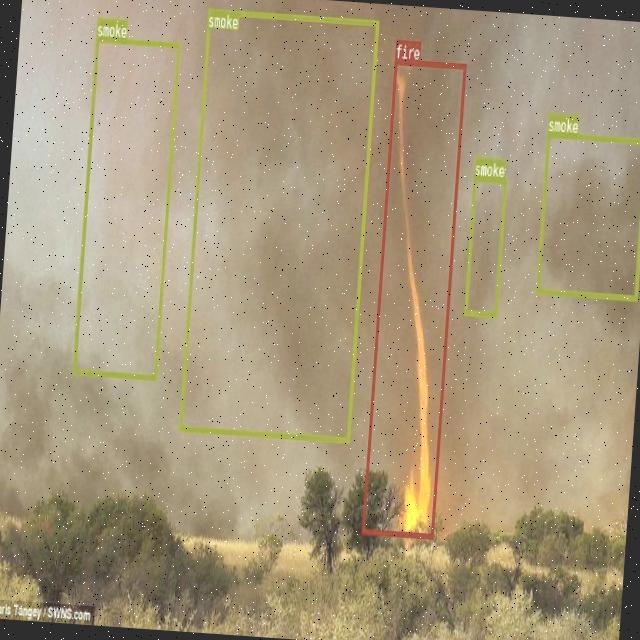fire: (360, 58, 466, 538)
smoke: (178, 7, 378, 442), (72, 35, 179, 379), (535, 130, 640, 299), (463, 175, 506, 317)
